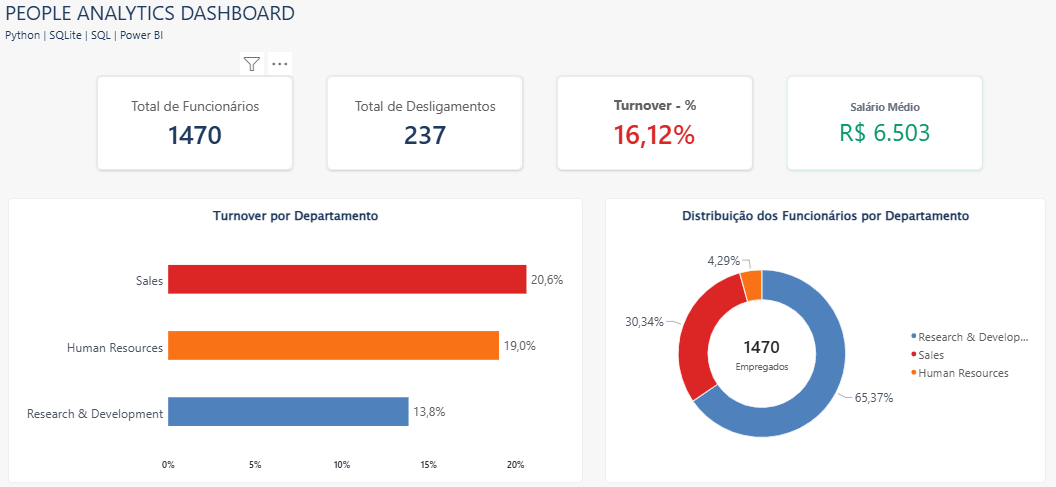

The page's visual inventory and layout, read from the dashboard file:
{"tool":"powerbi","page":{"name":"Resumo Executivo","canvas":[1920,1080],"ordinal":0},"visuals":[{"type":"textbox","title":"PEOPLE ANALYTICS DASHBOARD","box":[10.8,0,1909.4,90.7],"z":0},{"type":"cardVisual","fields":{"Data":["funcionarios.Total de Funcionários"]},"box":[172.5,135,342.5,165],"z":1000},{"type":"cardVisual","fields":{"Data":["funcionarios.Total de Desligamentos"]},"box":[575.8,135,342.5,165],"z":2000},{"type":"cardVisual","fields":{"Data":["funcionarios.Turnover %"]},"box":[979.2,135,342.5,165],"z":3000},{"type":"cardVisual","fields":{"Data":["funcionarios.Salário Médio"]},"box":[1382.5,135,342.5,165],"z":4000},{"type":"clusteredBarChart","title":"Turnover por Departamento","fields":{"Category":["funcionarios.Department"],"Y":["funcionarios.Turnover - %"]},"box":[15,350,1007.5,500],"z":5000},{"type":"donutChart","title":"Distribuição dos Funcionários por Departamento","fields":{"Category":["funcionarios.Department"],"Y":["CountNonNull(funcionarios.EmployeeNumber)"]},"box":[1062.5,350,772.5,500],"z":6000}]}

Visuals, with their boxes on the page's 1920x1080 design canvas (x1, y1, x2, y2). These are canvas units, not pixel positions in the 1056x487 screenshot, which may show the page scaled, cropped or inside an application window:
"PEOPLE ANALYTICS DASHBOARD" textbox: [11,0,1920,91]
cardVisual - funcionarios.Total de Funcionários: [172,135,515,300]
cardVisual - funcionarios.Total de Desligamentos: [576,135,918,300]
cardVisual - funcionarios.Turnover %: [979,135,1322,300]
cardVisual - funcionarios.Salário Médio: [1382,135,1725,300]
"Turnover por Departamento" clusteredBarChart: [15,350,1022,850]
"Distribuição dos Funcionários por Departamento" donutChart: [1062,350,1835,850]
